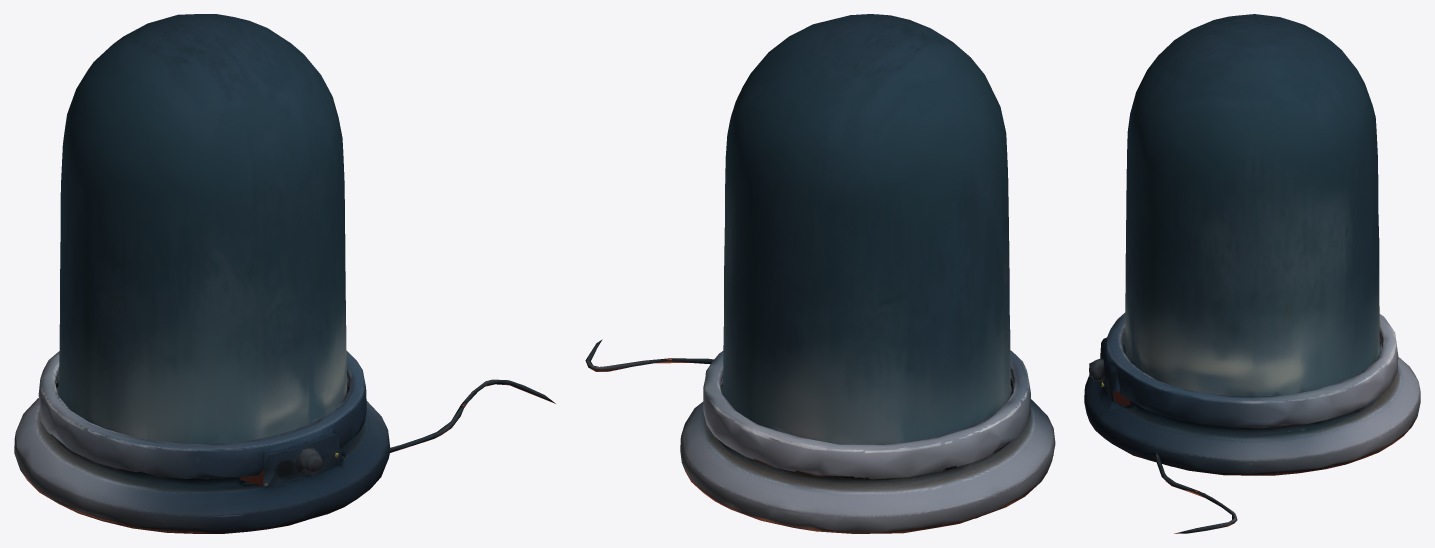
Rendered from special_HologramProjector.glb.
The picture shows the model from 3 angles, left to right: view 1: azimuth 30°, elevation 25°; view 2: azimuth 150°, elevation 25°; view 3: azimuth 270°, elevation 25°; orthographic projection. The views are drawn at different scales.
Parts seen in each view (by area): view 1: world; view 2: world; view 3: world.
Boxes of the visible parts, bbox=[...] form: world: bbox=[14, 14, 555, 533]; world: bbox=[585, 14, 1055, 533]; world: bbox=[1084, 14, 1420, 533].
Size of the model in its own units: 0.9877 by 0.8588 by 0.6866.
1 material, 1 textured.
